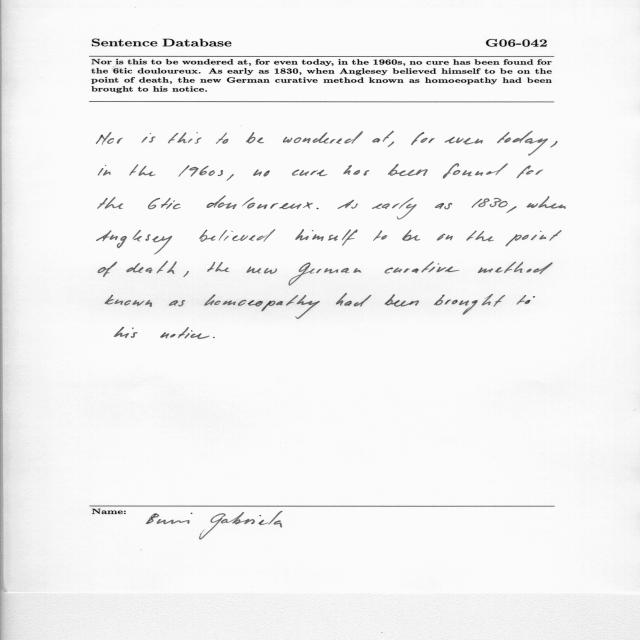word: (204, 294, 320, 319), (97, 230, 172, 254), (289, 262, 362, 286), (434, 294, 505, 315), (206, 196, 313, 209), (497, 131, 548, 156), (296, 229, 358, 246), (283, 131, 363, 144), (372, 198, 417, 220), (200, 229, 276, 242), (443, 164, 508, 179), (478, 262, 553, 275), (506, 230, 562, 246), (385, 262, 459, 274), (126, 261, 177, 274), (160, 327, 210, 339), (105, 295, 152, 307), (179, 165, 223, 177), (527, 196, 566, 209), (388, 164, 428, 176), (336, 294, 371, 307), (385, 294, 419, 307), (168, 132, 201, 144), (148, 198, 181, 209), (472, 198, 508, 208), (96, 132, 123, 145), (517, 165, 543, 178), (129, 164, 156, 176), (411, 132, 435, 145), (466, 231, 494, 242), (445, 137, 483, 145), (98, 197, 123, 209), (344, 165, 370, 176), (98, 262, 117, 277), (372, 131, 394, 143), (115, 327, 138, 338), (246, 266, 277, 274), (207, 262, 229, 272), (246, 132, 264, 144), (292, 170, 328, 176), (403, 230, 421, 241), (338, 200, 358, 209), (517, 295, 535, 305), (373, 230, 387, 241), (98, 165, 111, 176), (142, 133, 156, 143), (216, 133, 228, 144), (253, 170, 270, 177), (437, 234, 453, 241), (435, 203, 452, 209), (169, 300, 185, 306), (507, 206, 517, 213), (550, 141, 558, 148), (226, 174, 234, 181), (388, 142, 394, 148), (183, 271, 189, 277), (317, 208, 319, 209), (213, 337, 215, 338)
